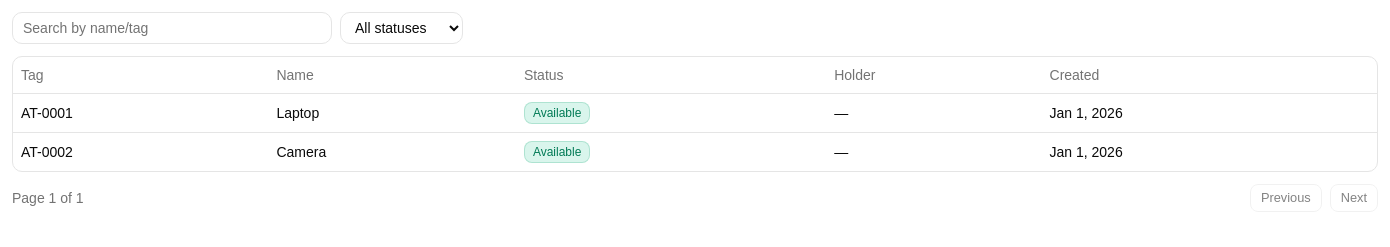
Scenario: AssetsTable › filters by tag or name and shows an empty state when nothing matches
In the field with placeholder "Search by name/tag": (172, 28) [12, 12, 332, 44], type "camera"
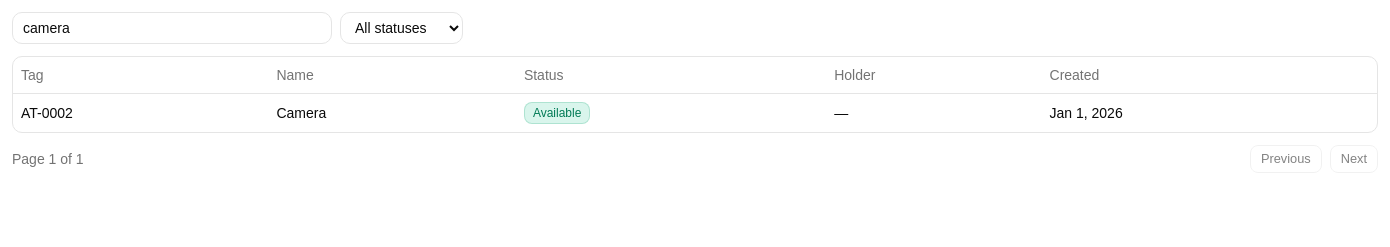
Expected: the text "AT-0002" is shown, [13, 93, 268, 132]
Now the text "AT-0001" is gone
Replace the text in the field with placeholder "Search by name/tag" with "no such asset": (172, 28) [12, 12, 332, 44]
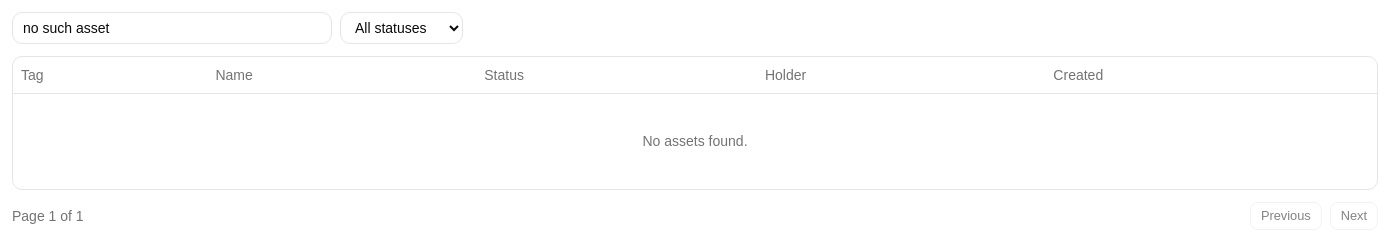
Now the text "No assets found." is shown, box [13, 93, 1377, 189]
